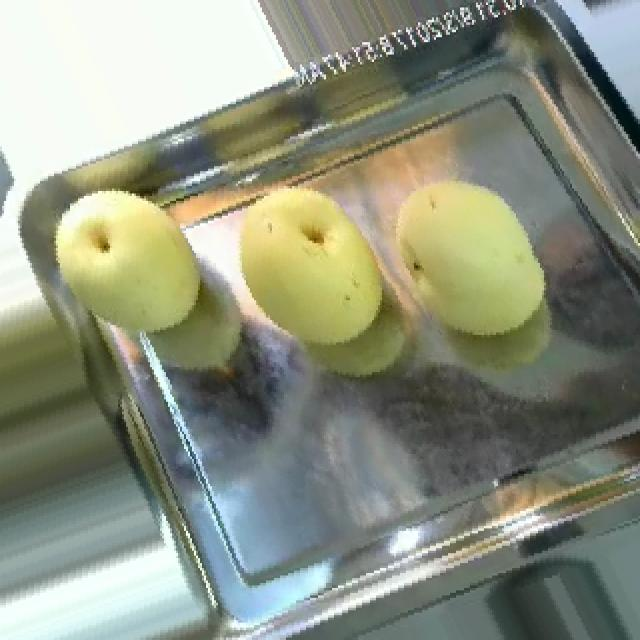Fruit: (356, 146, 572, 367), (204, 166, 410, 377), (22, 169, 228, 362)
